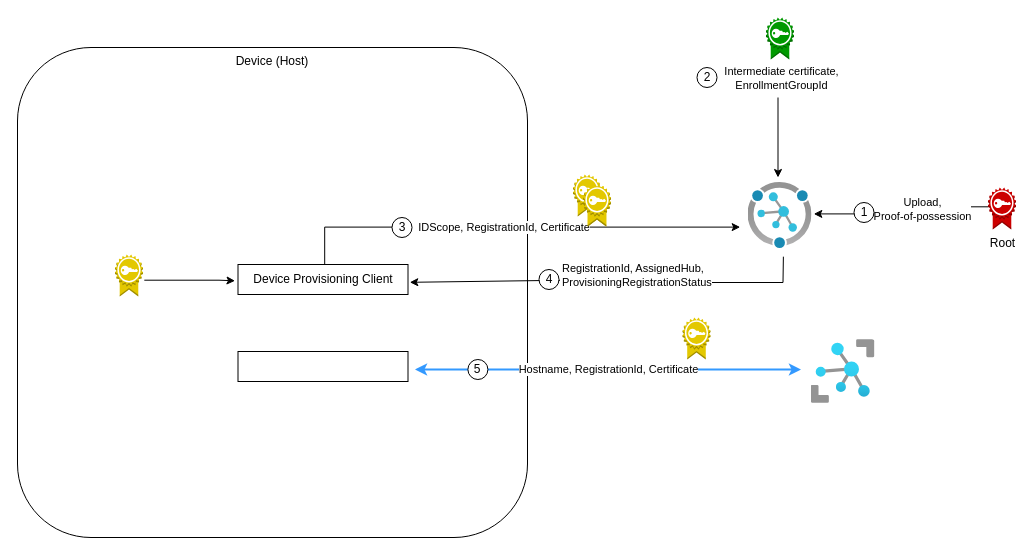
Image size: 1034x555. Some labels were removed from this diagram. Each missing label, with the centre of its shape:
Device certificate: point (128, 275)
Device Client: point (322, 366)
DPS: point (780, 215)
Hub: point (842, 371)
